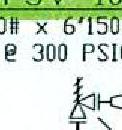psv: (67, 76, 98, 123)
